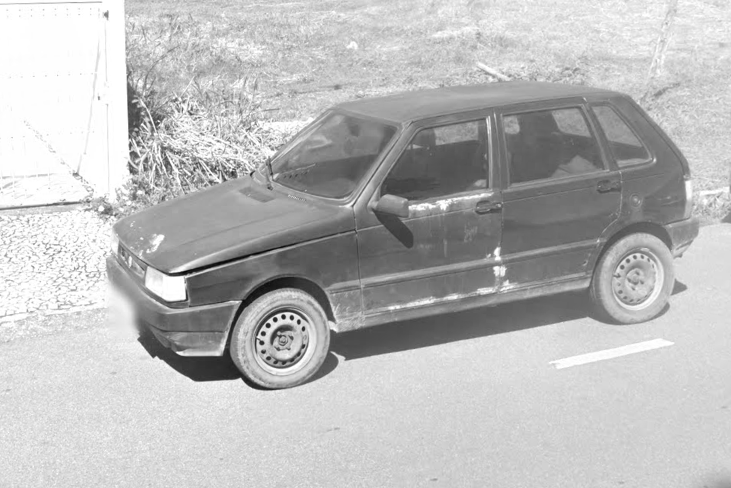car: (104, 76, 700, 392)
